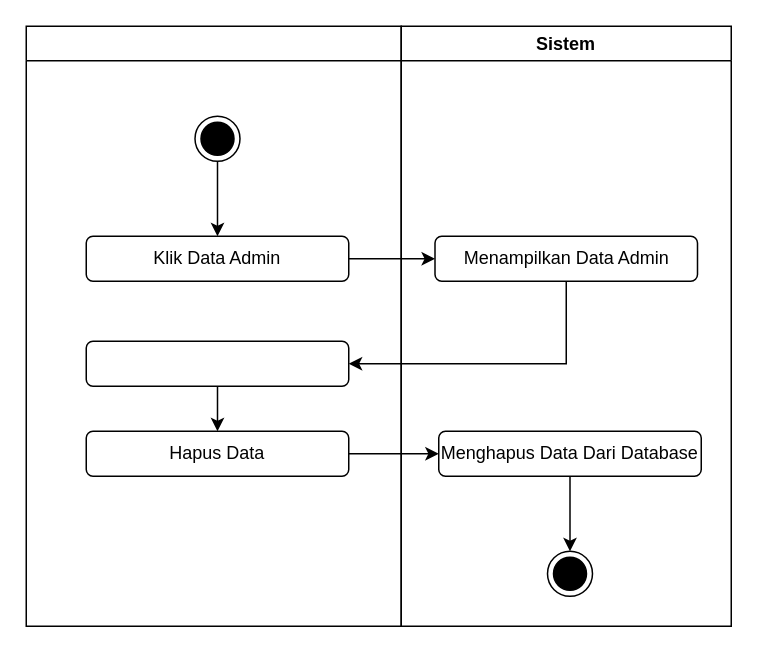
Image size: 758x653. Some labels were removed from this diagram. Here are the shapes that lost their labels. From the top down, the box of each, then its label:
(25, 25, 401, 626): Aktor
(85, 340, 349, 386): Memilih Data yang Akan di Hapus
